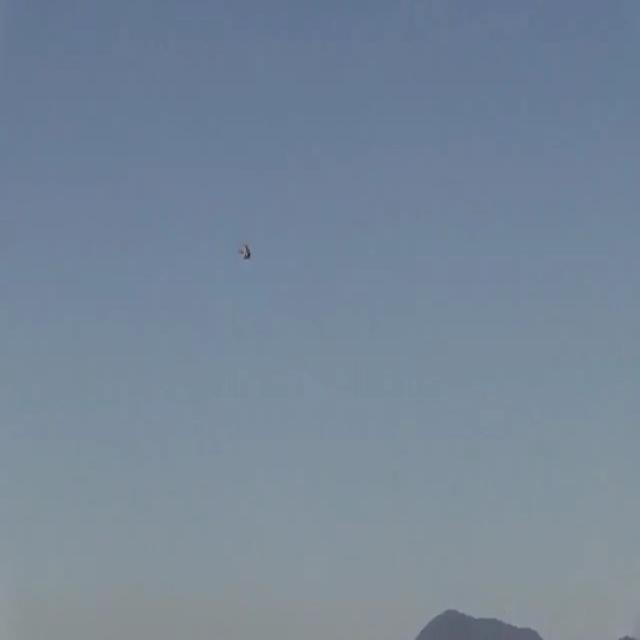Helicopter: (222, 228, 271, 270)
